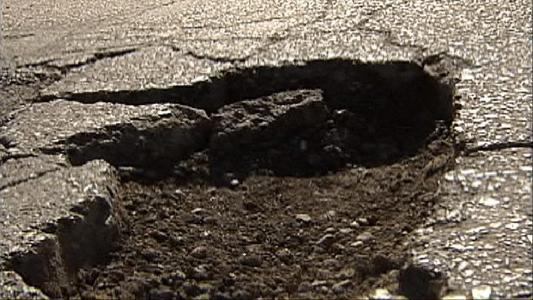pothole: (1, 50, 471, 300)
